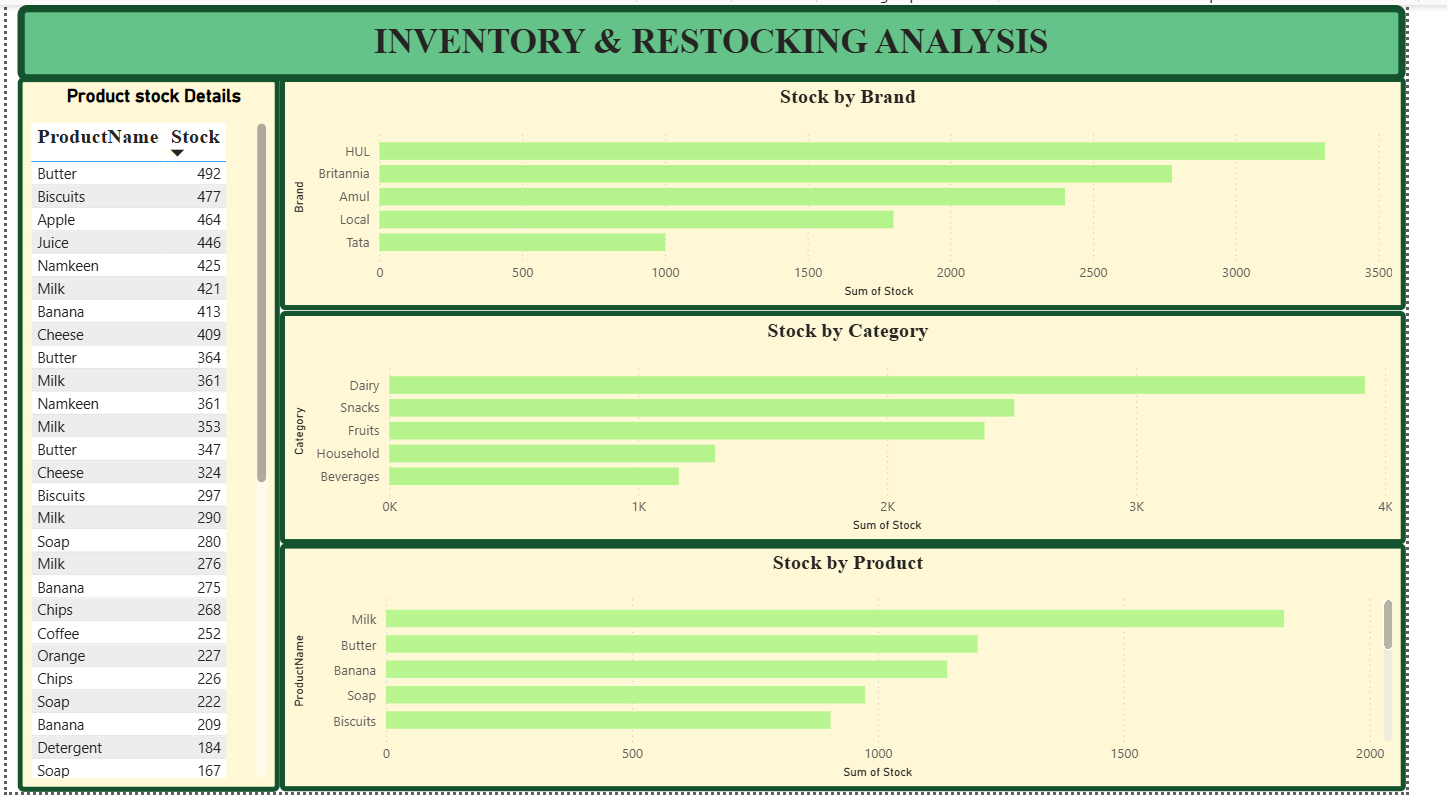

Layout of this report page (visuals, bound fields, positions):
{"tool":"powerbi","page":{"name":"INVENTORY & RESTOCKING ANALYSIS","canvas":[1280,720],"ordinal":2},"visuals":[{"type":"textbox","box":[9.4,0,1269.9,69.9],"z":0},{"type":"clusteredBarChart","title":" Stock by Product","fields":{"Category":["Products.ProductName"],"Y":["Sum(Products.Stock)"]},"box":[249.5,493.2,1029.9,226.8],"z":1000},{"type":"clusteredBarChart","title":" Stock by Brand","fields":{"Category":["Products.Brand"],"Y":["Sum(Products.Stock)"]},"box":[249.5,66.1,1029.9,213.5],"z":2000},{"type":"clusteredBarChart","title":" Stock by Category","fields":{"Category":["Products.Category"],"Y":["Sum(Products.Stock)"]},"box":[249.5,279.7,1029.9,213.5],"z":3000},{"type":"tableEx","title":"Product stock Details","fields":{"Values":["Products.ProductName","Products.Stock"]},"box":[9.4,66.1,240,653.9],"z":4000}]}

Visuals, with their boxes in screenshot pixels (x1, y1, x2, y2), scaled from the page's 1280x720 canvas onto the 1447x799 screenshot:
textbox: <region>11, 0, 1446, 78</region>
" Stock by Product" clusteredBarChart: <region>282, 547, 1446, 798</region>
" Stock by Brand" clusteredBarChart: <region>282, 73, 1446, 310</region>
" Stock by Category" clusteredBarChart: <region>282, 310, 1446, 547</region>
"Product stock Details" tableEx: <region>11, 73, 282, 798</region>
